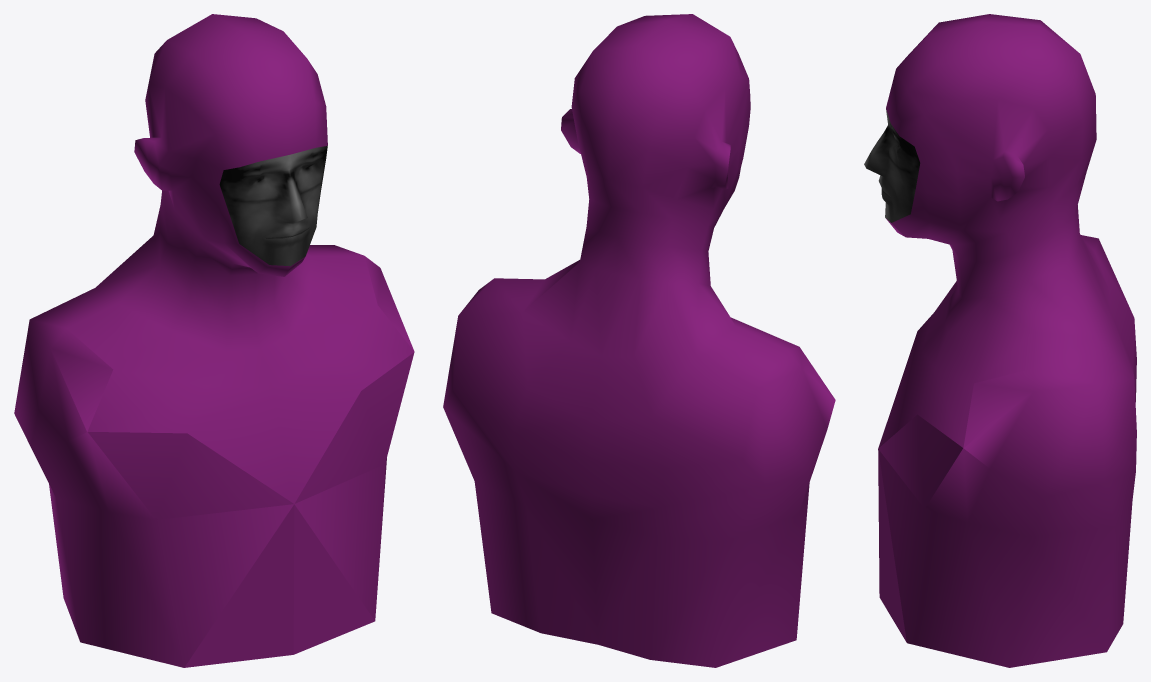
File: human_male.gltf
3 views of the same model, side by side, from view 1: azimuth 30°, elevation 25°; view 2: azimuth 150°, elevation 25°; view 3: azimuth 270°, elevation 25° (orthographic).
Parts seen in each view (by area): view 1: male; view 2: male; view 3: male.
Boxes of the visible parts, bbox=[...] form: male: bbox=[14, 14, 414, 667]; male: bbox=[443, 14, 835, 667]; male: bbox=[864, 14, 1136, 667].
Size of the model in its own units: 3.65 by 5.74 by 2.47.
3 materials, 1 textured.
